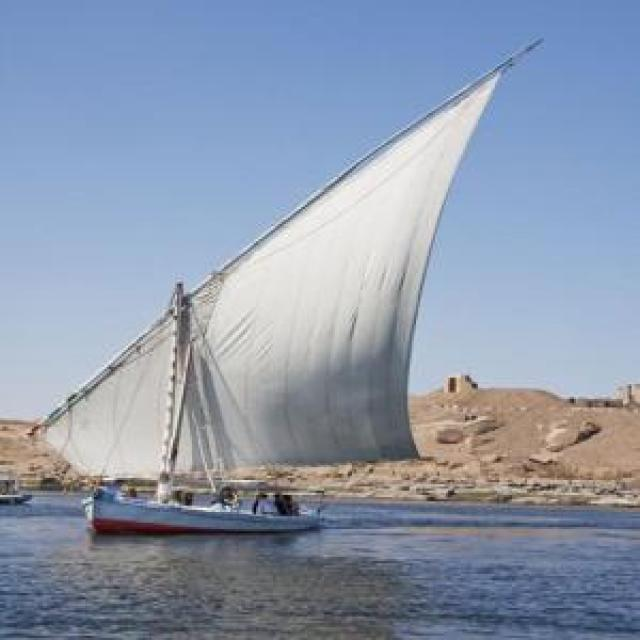passenger ship: (47, 34, 524, 536)
